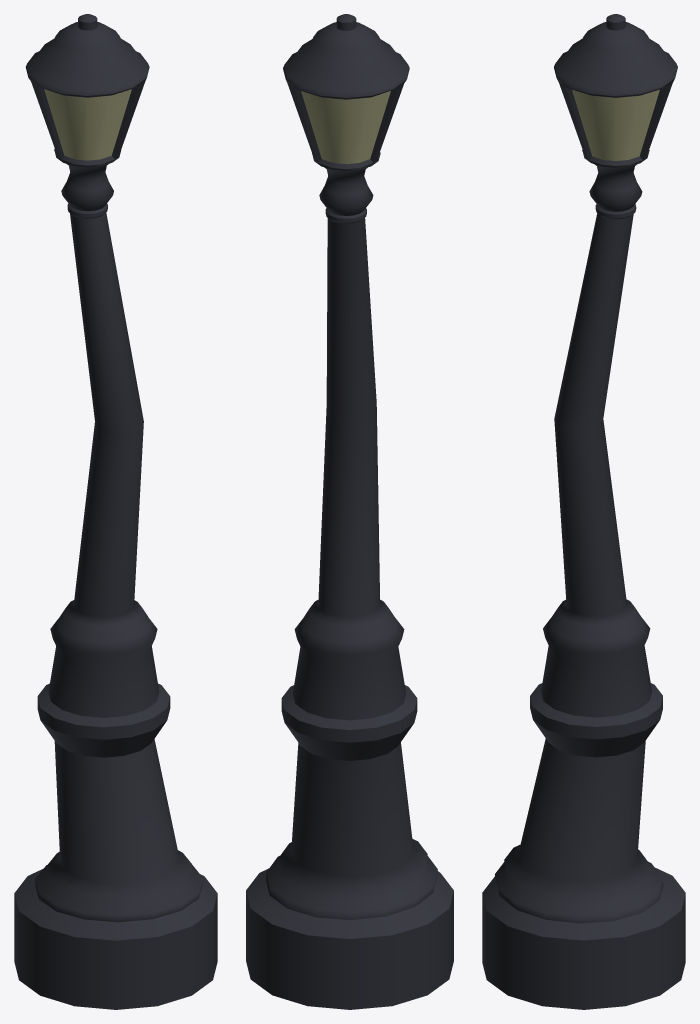
The model's file is Reverbere.fbx.
3 renders of one model, left to right at view 1: azimuth 30°, elevation 25°; view 2: azimuth 150°, elevation 25°; view 3: azimuth 270°, elevation 25°, orthographic. The views are drawn at different scales.
Visible parts, largest first — view 1: Reverbere; view 2: Reverbere; view 3: Reverbere.
Part boxes in pixels (x1=…): Reverbere: x1=14, y1=14, x2=217, y2=1009; Reverbere: x1=246, y1=14, x2=453, y2=1009; Reverbere: x1=482, y1=14, x2=685, y2=1009.
Size of the model in its own units: 0.674 by 3.47 by 0.6777.
